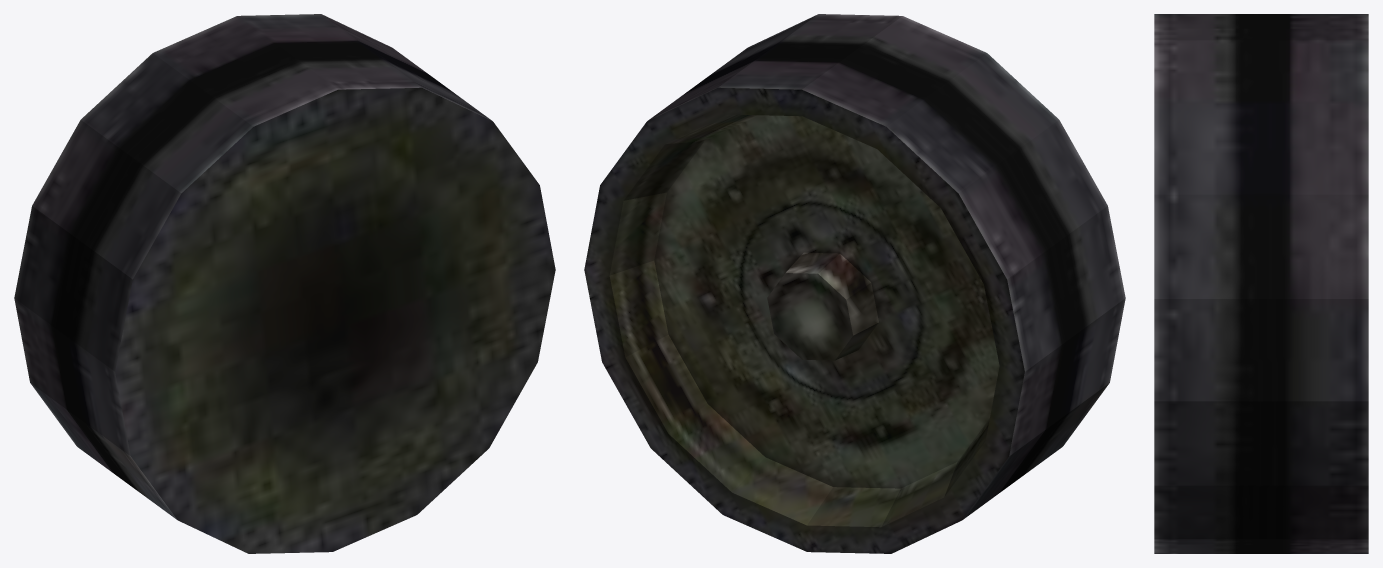
The model's file is wheel_r.obj.
3 views of the same model, side by side, from view 1: azimuth 30°, elevation 25°; view 2: azimuth 150°, elevation 25°; view 3: azimuth 270°, elevation 25° (orthographic). The views are drawn at different scales.
Parts seen in each view (by area): view 1: LOD01_t-44; view 2: LOD01_t-44; view 3: LOD01_t-44.
Boxes of the visible parts, box(x1,y1,x2,y2) form: LOD01_t-44: box(14, 14, 555, 553); LOD01_t-44: box(584, 14, 1125, 553); LOD01_t-44: box(1154, 14, 1368, 553).
Size of the model in its own units: 1.57 by 1.57 by 0.6205.
Materials: 1 (1 with a texture image).
